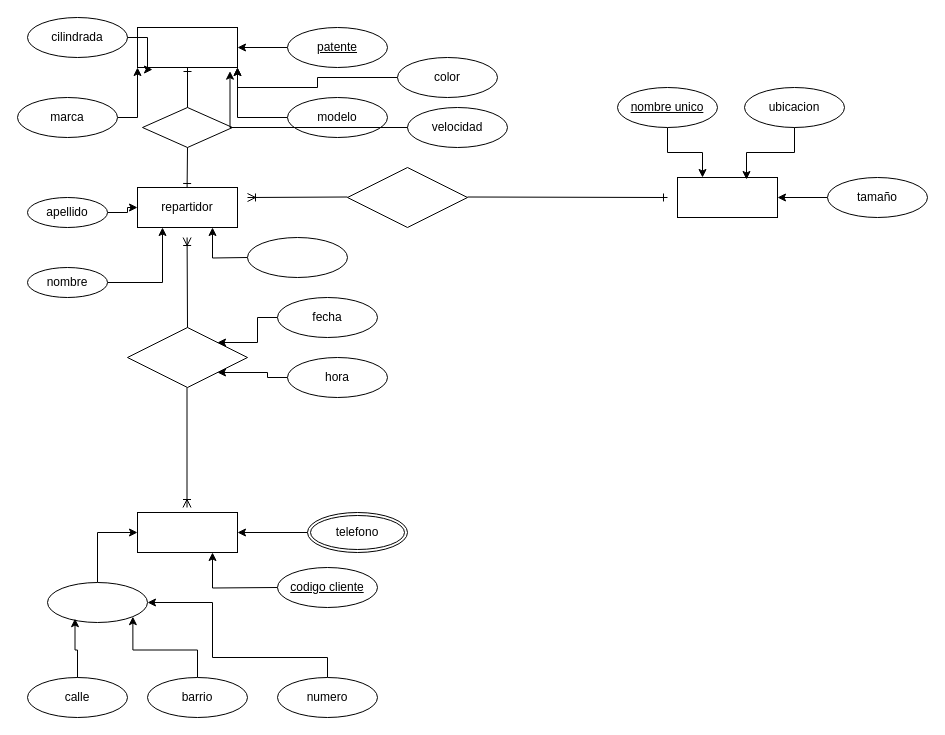
The diagram is 945 pixels wide and 735 high, and some of its shapes have lost their labels. The centre of each missing label's shape, as x and y in pixels:
"asigna" goes at [407,197].
"cliente" goes at [187,532].
"direccion" goes at [97,602].
"entrega" goes at [187,357].
"id repartidor" goes at [297,257].
"moto" goes at [187,47].
"usa" goes at [187,127].
"zona" goes at [727,197].
